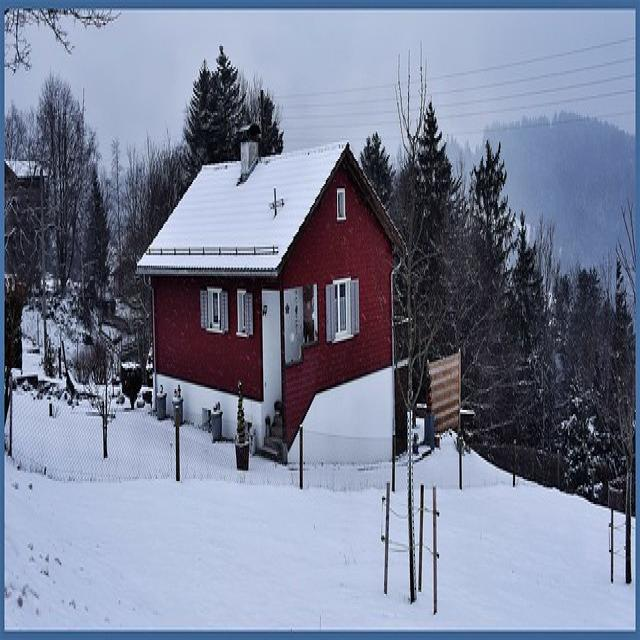Normal_building: (132, 137, 418, 472)
